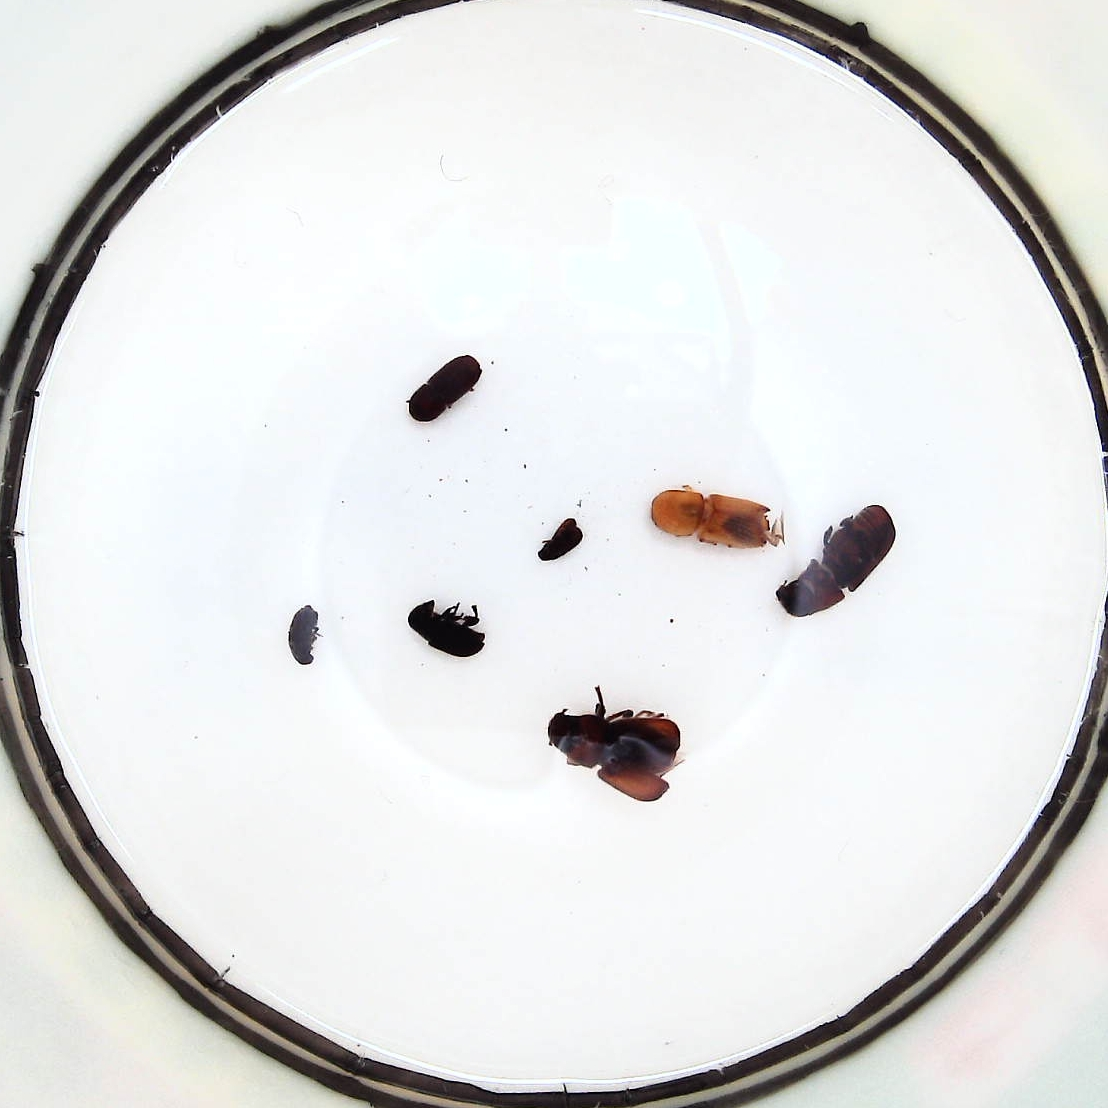Boerner: (652, 488, 770, 550)
Leconte: (776, 506, 895, 615), (547, 708, 681, 801)
acuminatus: (287, 606, 322, 664)
armandi: (408, 599, 487, 659), (409, 355, 481, 420)
coleoptera: (538, 518, 583, 561)
